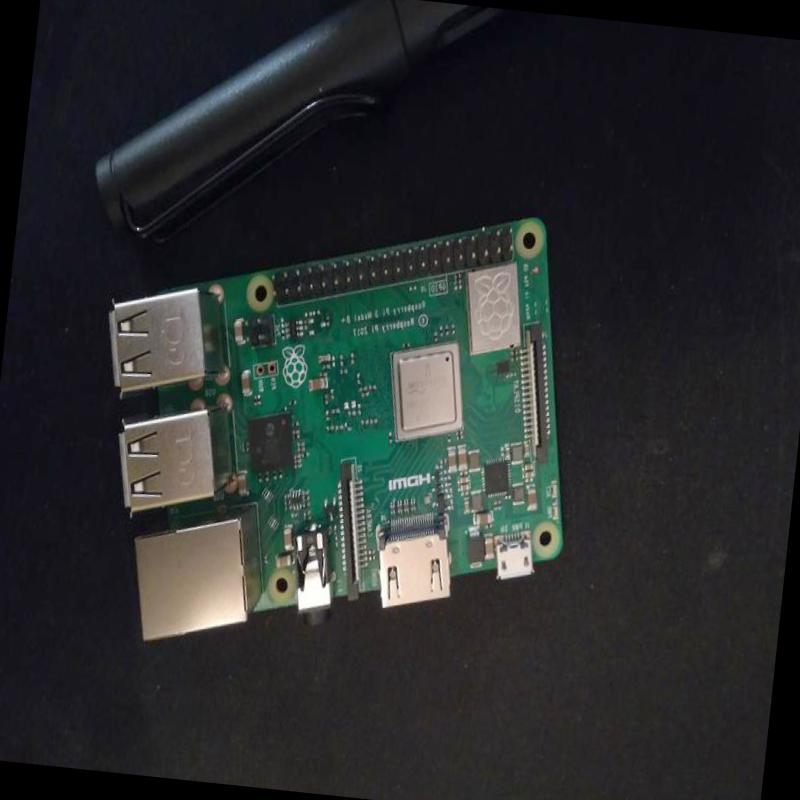Raspberry_Pi_3: (69, 164, 612, 696)
